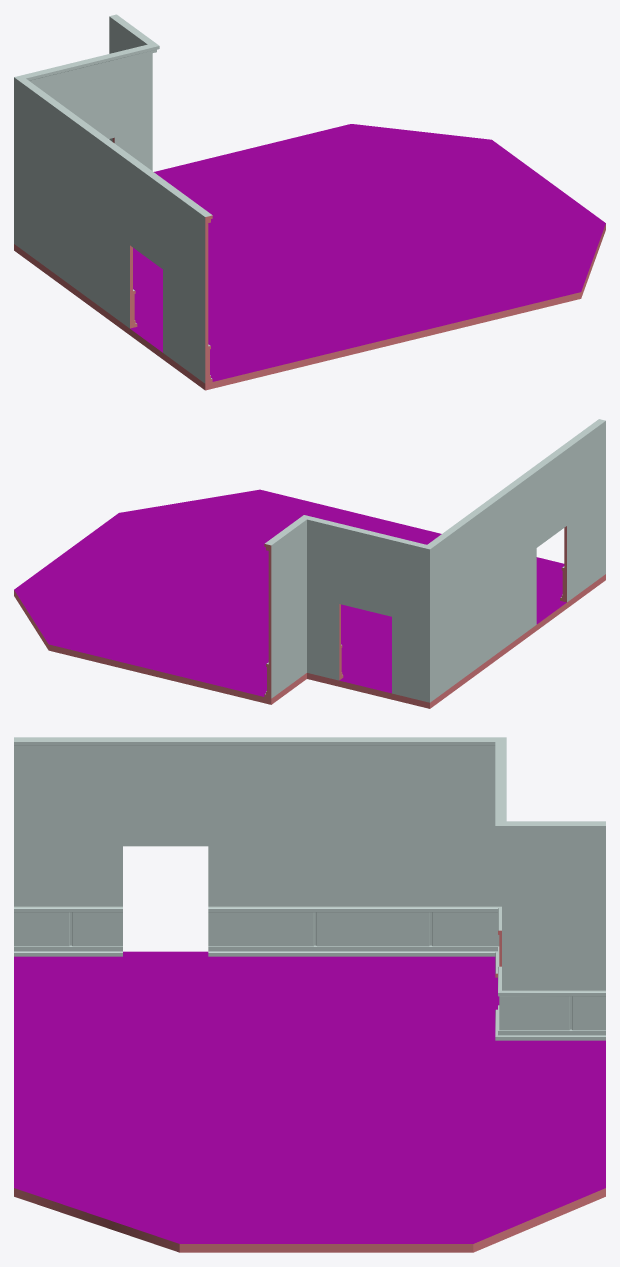
File: Nursery.fbx
3 views of the same model, one above another, from view 1: azimuth 30°, elevation 25°; view 2: azimuth 150°, elevation 25°; view 3: azimuth 270°, elevation 25° (orthographic). The views are drawn at different scales.
Parts seen in each view (by area): view 1: polySurface186; view 2: polySurface186; view 3: polySurface186.
Part boxes in pixels (<box>): polySurface186: <box>14,14,605,390</box>; polySurface186: <box>14,419,605,708</box>; polySurface186: <box>14,737,605,1252</box>.
Bounding box in the file's own units: 146 × 52 × 125.
